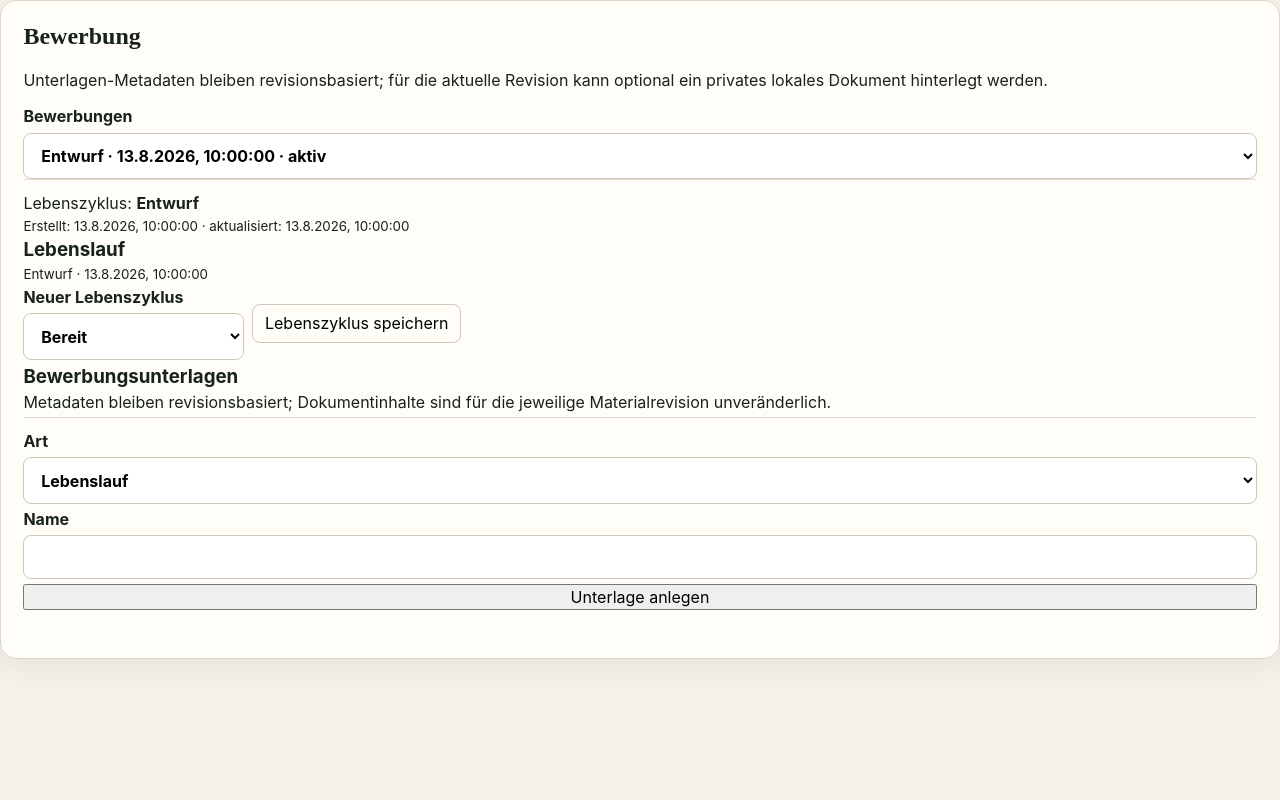
Test: ApplicationCasePanel › creates material metadata and shows revision 1
The width and height of the screenshot is (1280, 800).
Type "Lebenslauf" into the field named "Name der Unterlage".
click(640, 557); type("Lebenslauf")  # box [23, 535, 1257, 579]
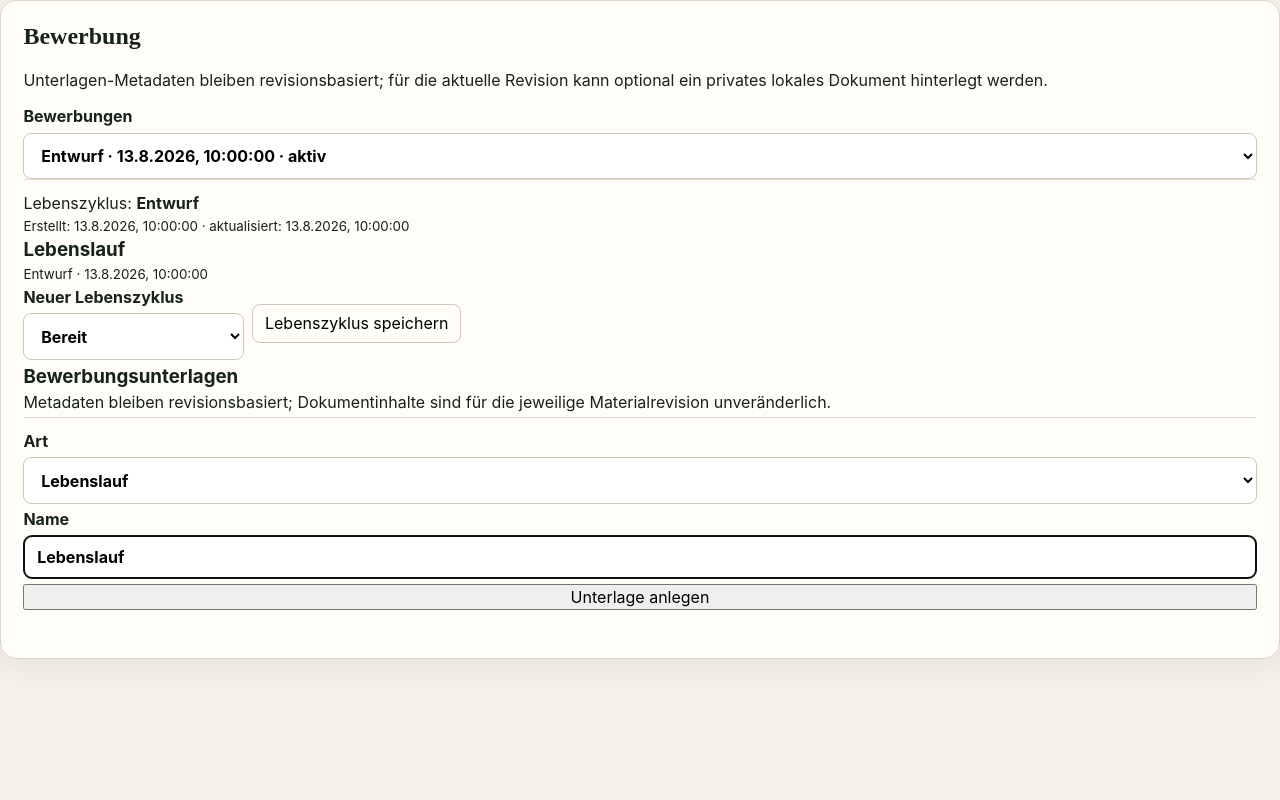
Click the button "Unterlage anlegen".
click(640, 597)  # box [23, 584, 1257, 610]
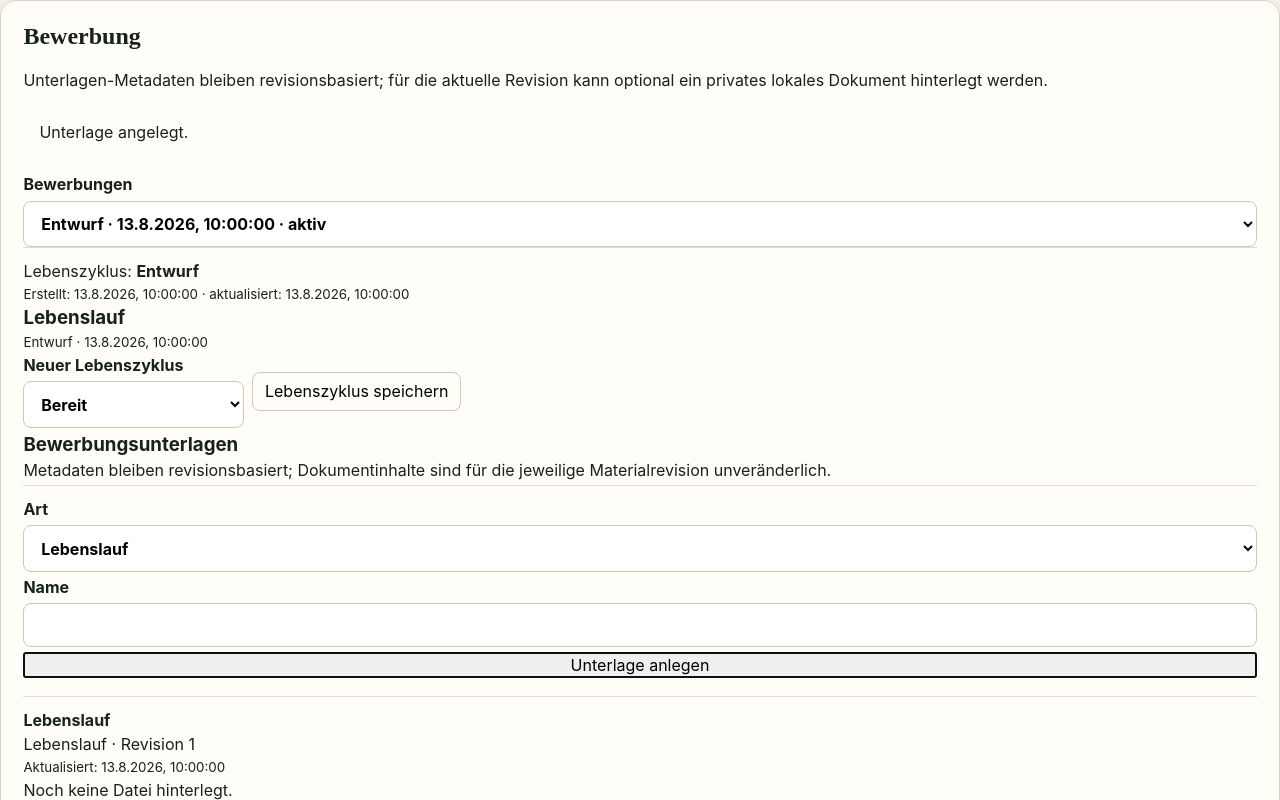
Now the text "Lebenslauf · Revision 1" is shown, box [23, 734, 195, 754]
